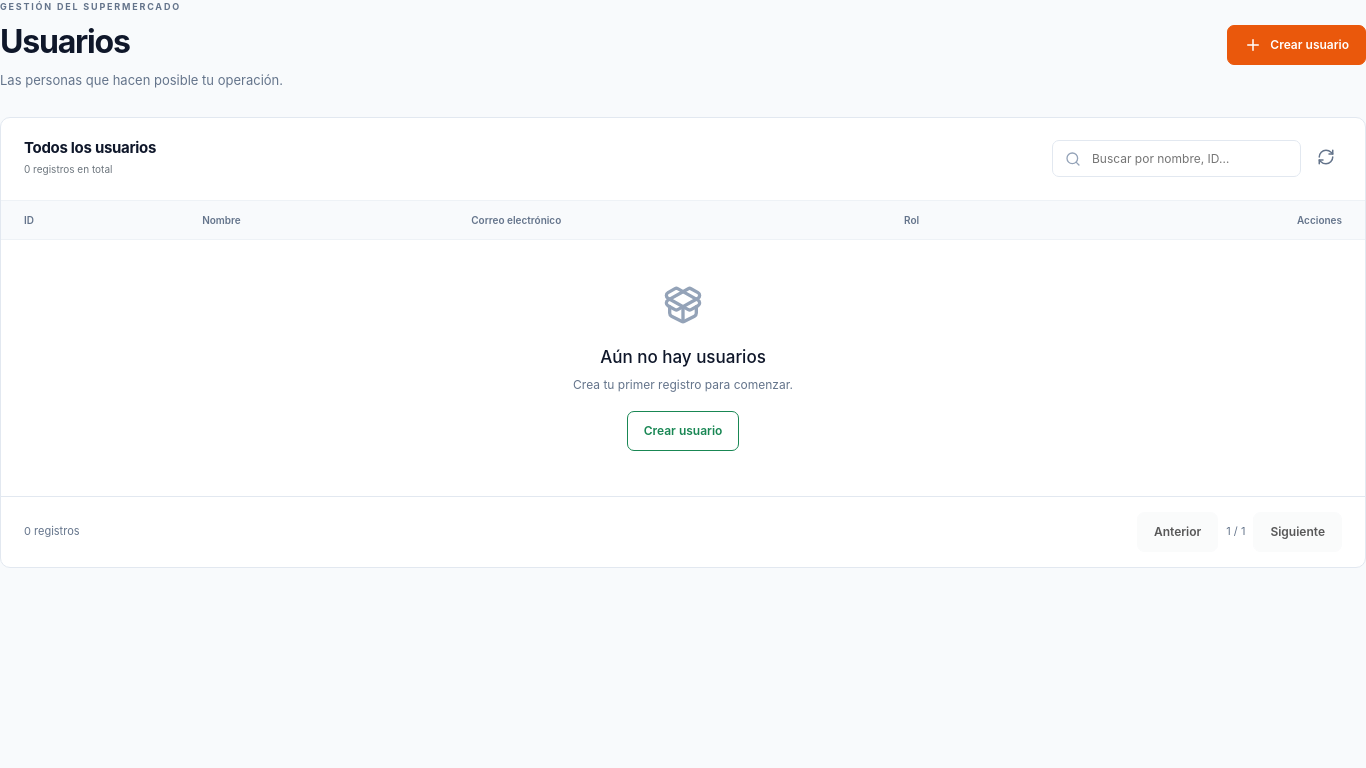
Scenario: Interacciones de la SPA › conserva el formulario ante conflictos y permite corregir y guardar
Click the 1st button "Crear usuario" at (1297, 45), box [1227,25,1365,65]
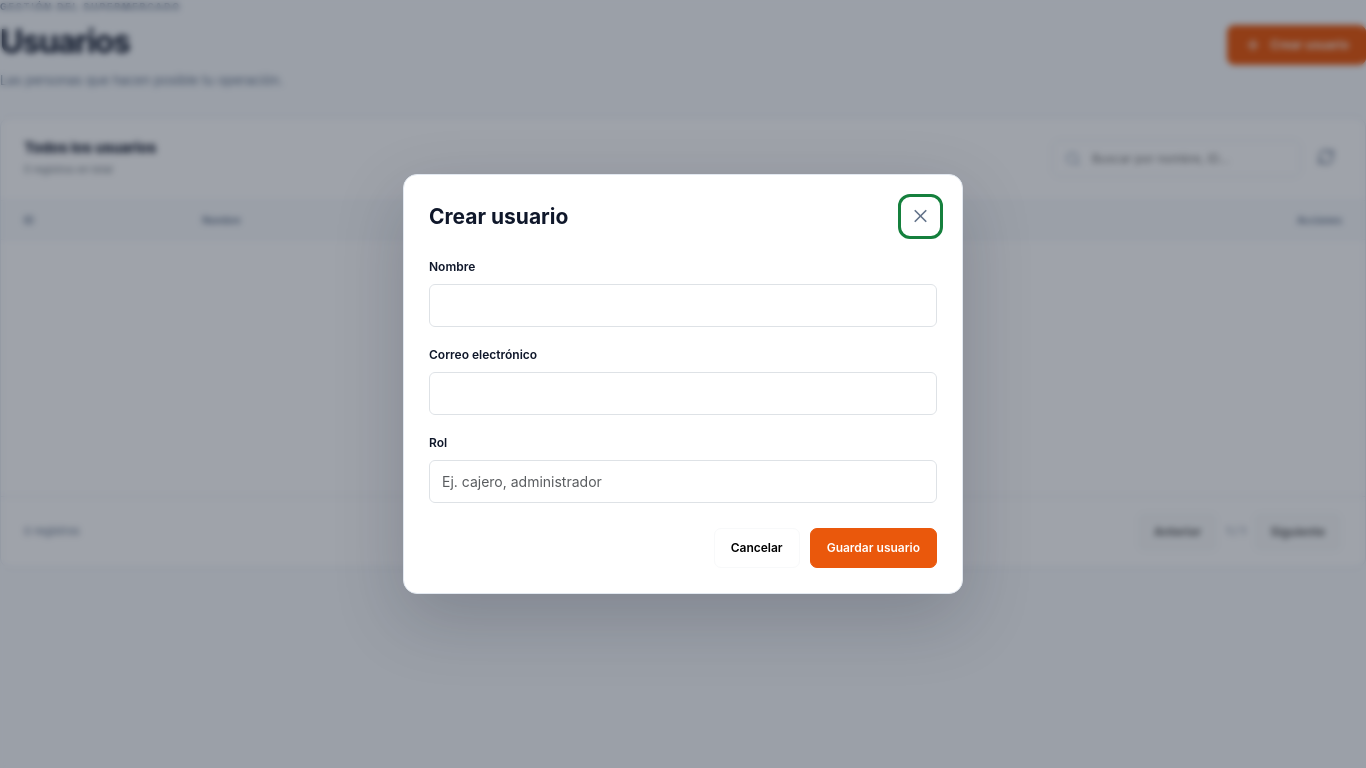
Type "Ana" into the field labelled "Nombre" at (683, 305), box [429,284,937,327]
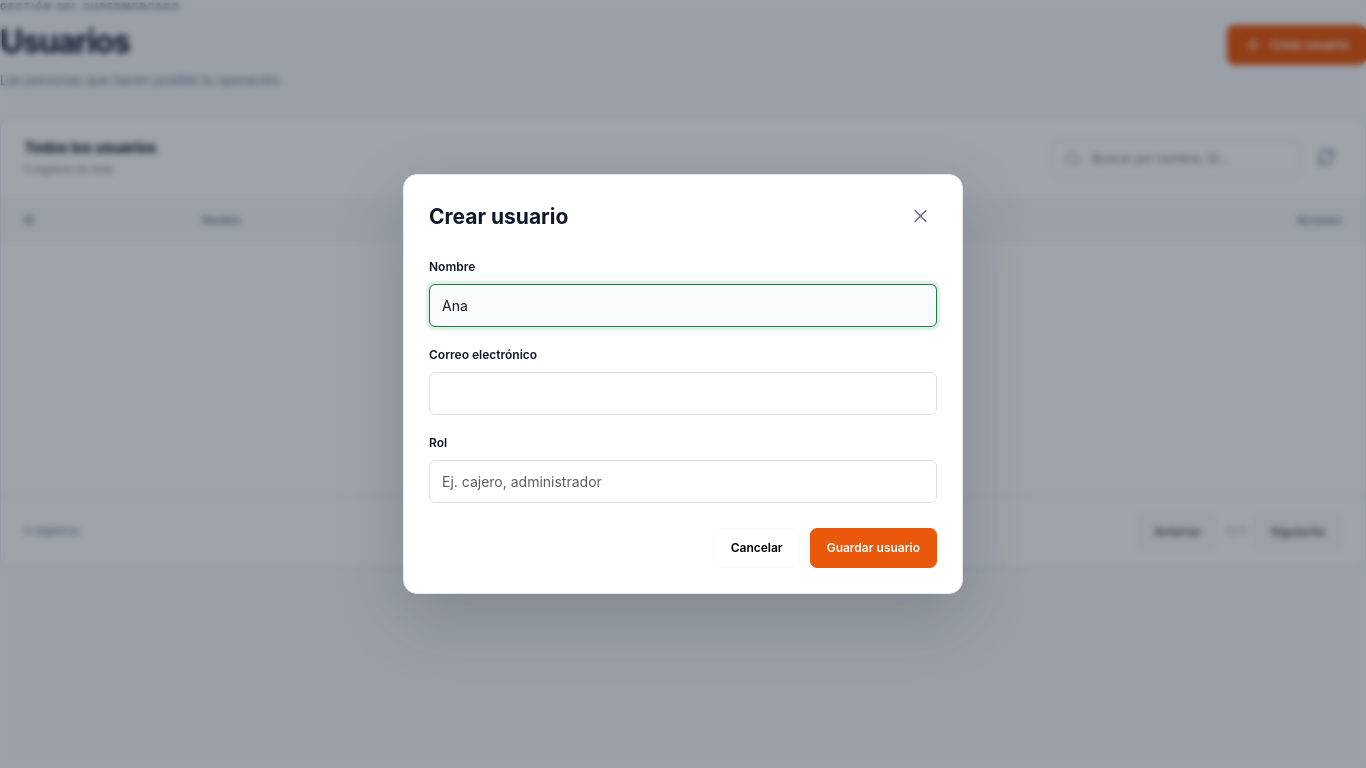
Type "ana@example.com" into the field labelled "Correo electrónico" at (683, 394), box [429,372,937,415]
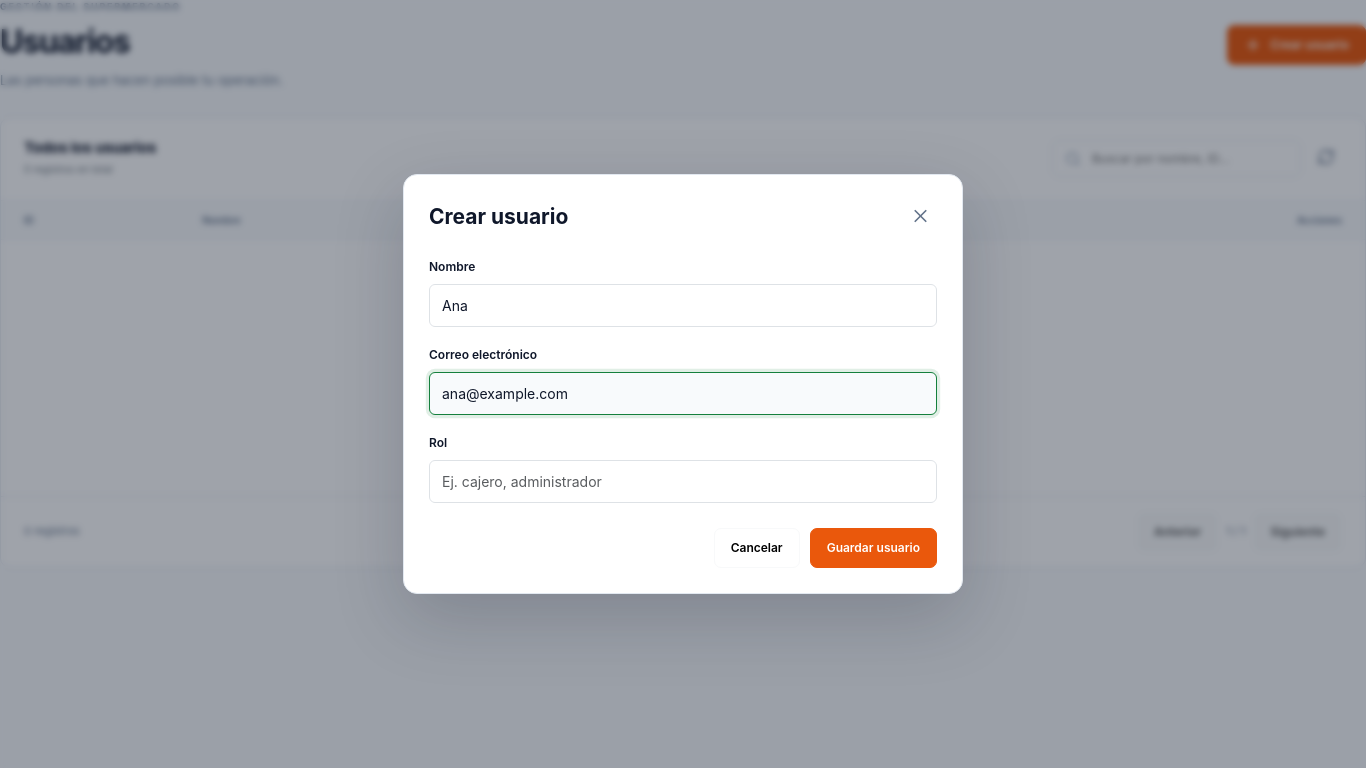
Type "cajero" into the field labelled "Rol" at (683, 482), box [429,460,937,503]
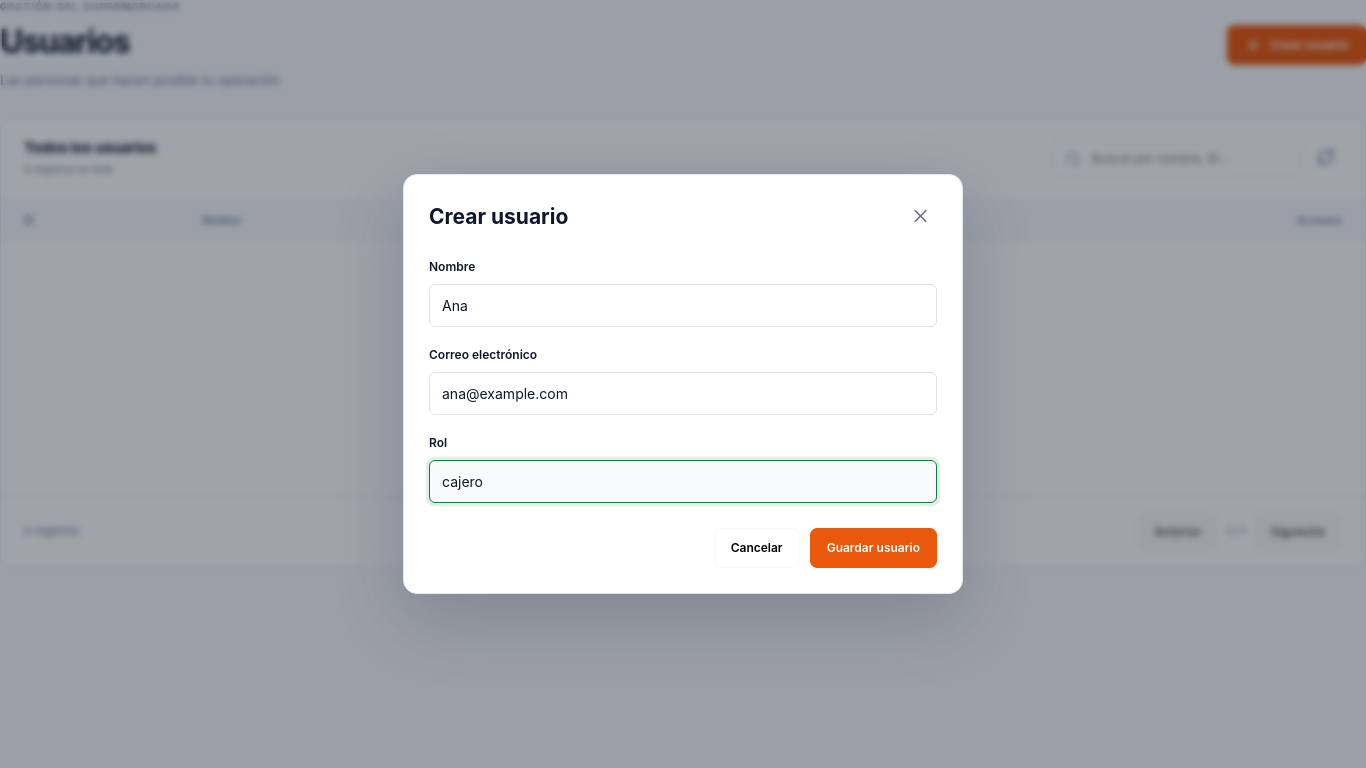
Click the button "Guardar usuario" at (873, 548), box [810,528,937,568]
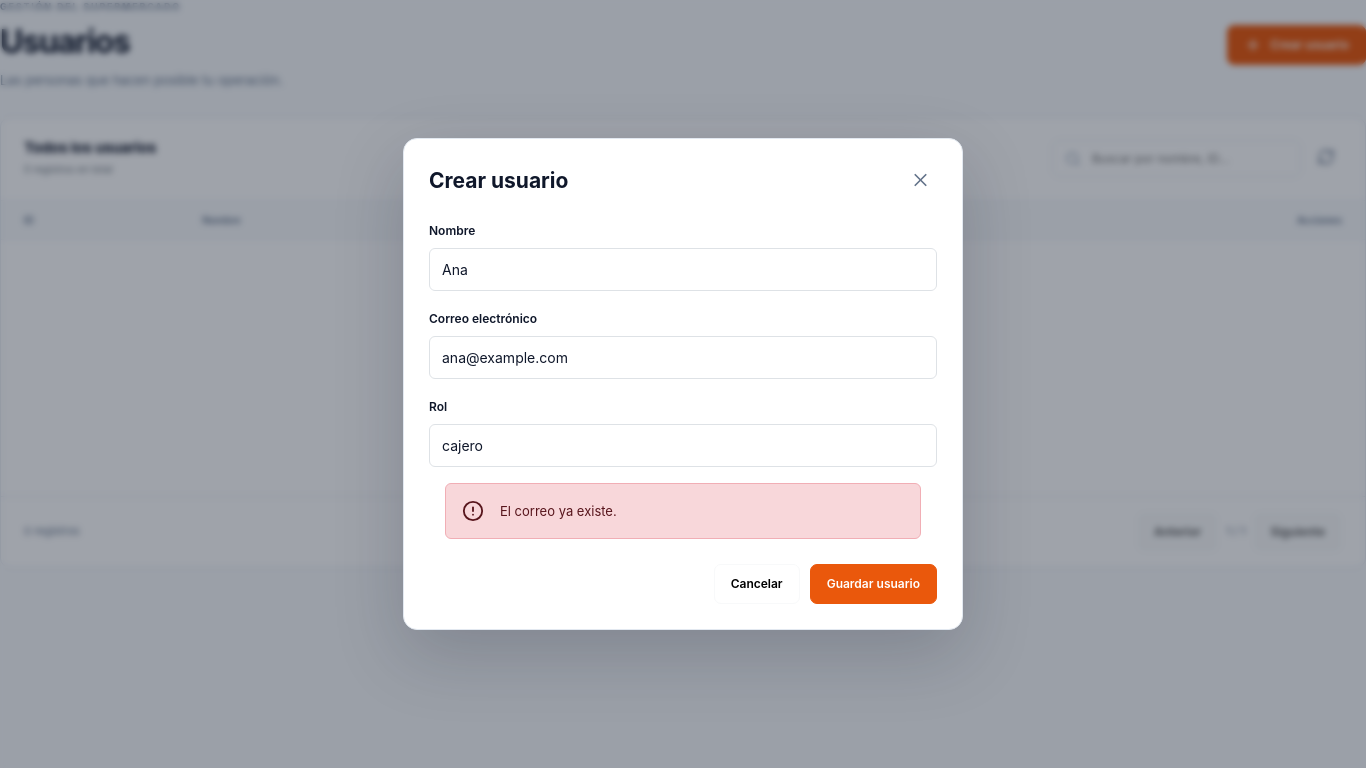
Result: the text "El correo ya existe." is shown at [500,503,617,519]
Click the button "Guardar usuario" at (873, 584), box [810,564,937,604]
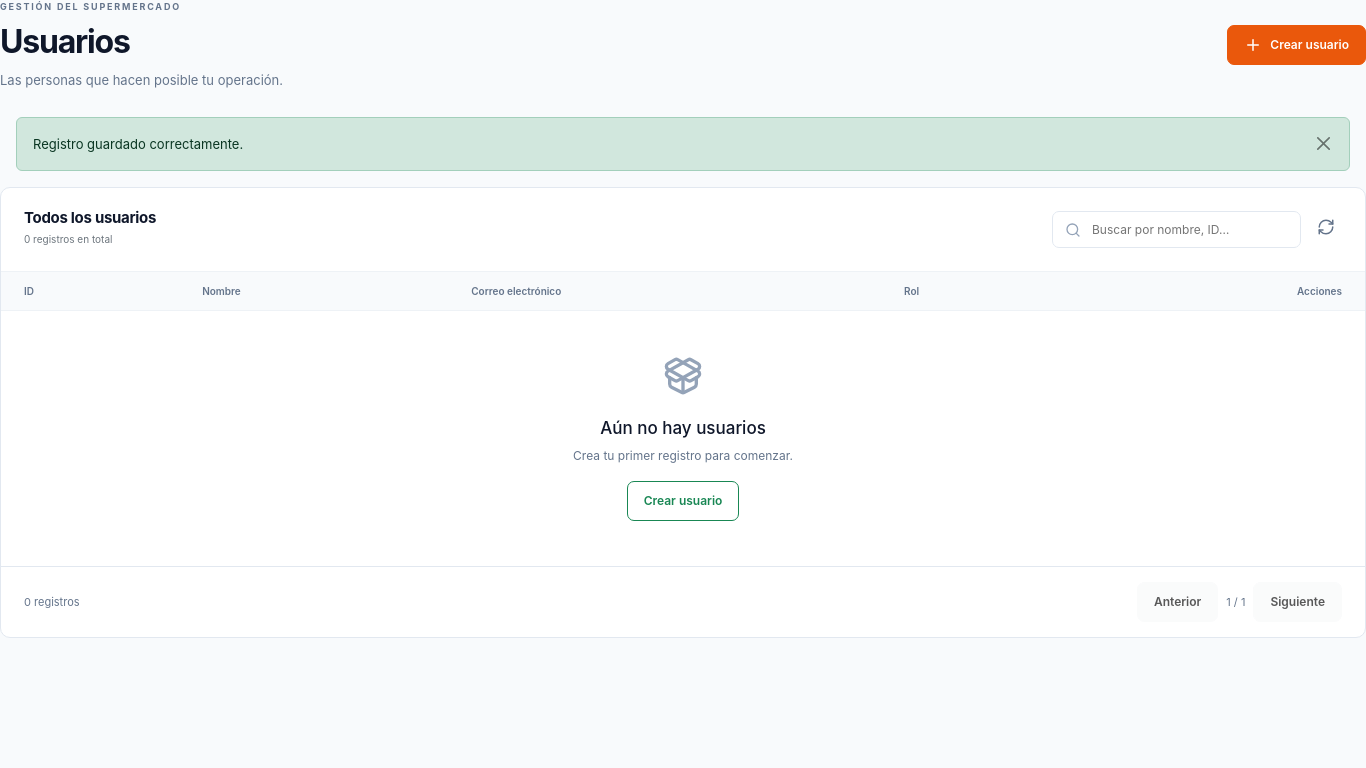
Result: the text "Registro guardado correctamente." is shown at [16,117,1350,171]
